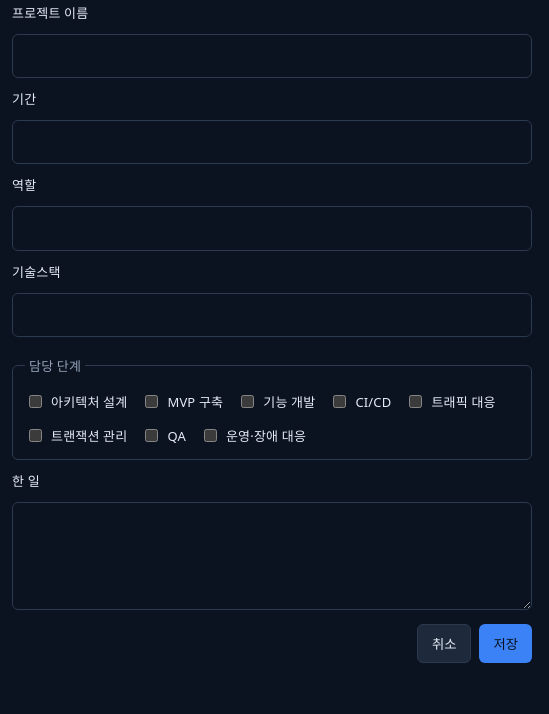
Scenario: ProjectForm › does not close the form and shows an error when the disk write itself fails
Type "정산 서비스" into the field labelled "프로젝트 이름" at point(272, 56), box [12, 34, 532, 78]
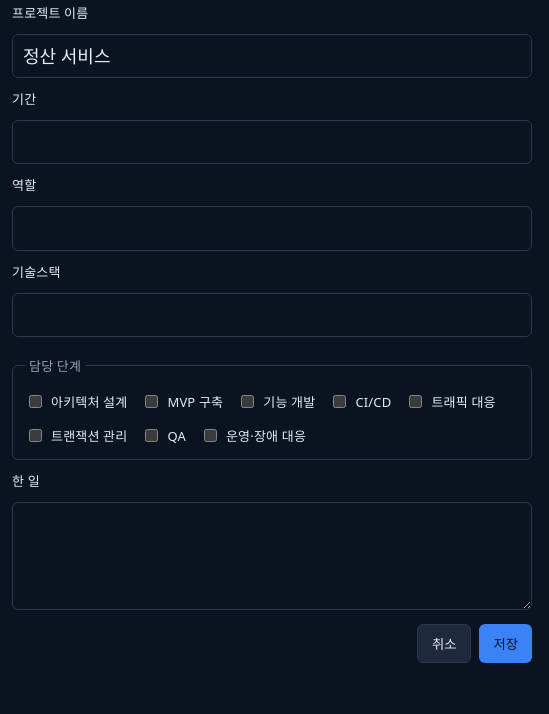
Type "Redis 캐시를 붙였다" into the text box labelled "한 일" at point(272, 556), box [12, 502, 532, 610]
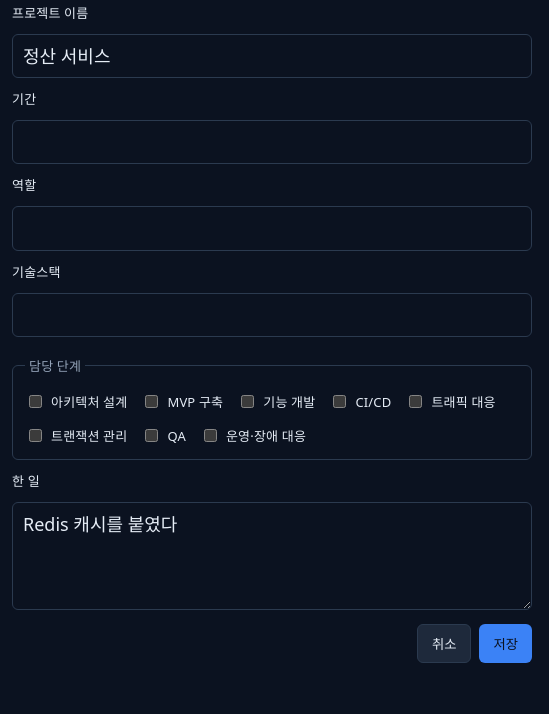
Click the button "저장" at point(506, 644), box [480, 624, 532, 663]
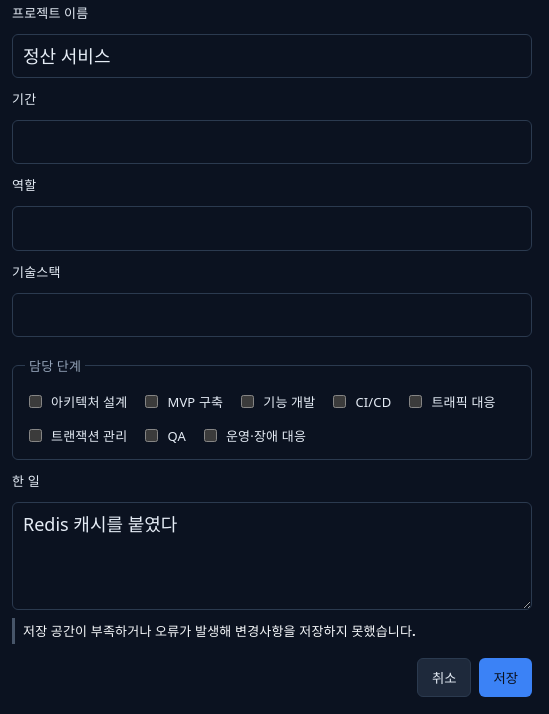
expect the text "저장 공간이 부족하거나 오류가 발생해 변경사항을 저장하지 못했습니다." is shown: met, box [12, 618, 532, 644]
